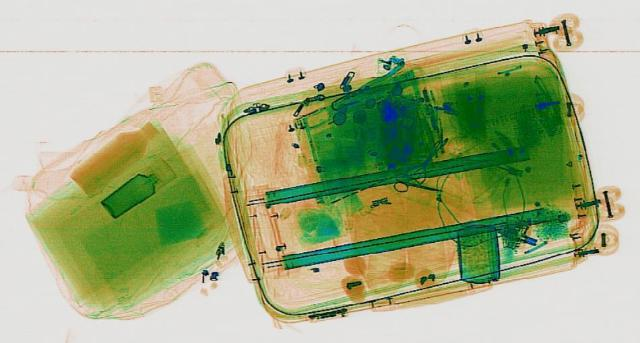Scissors: (386, 172, 448, 197)
